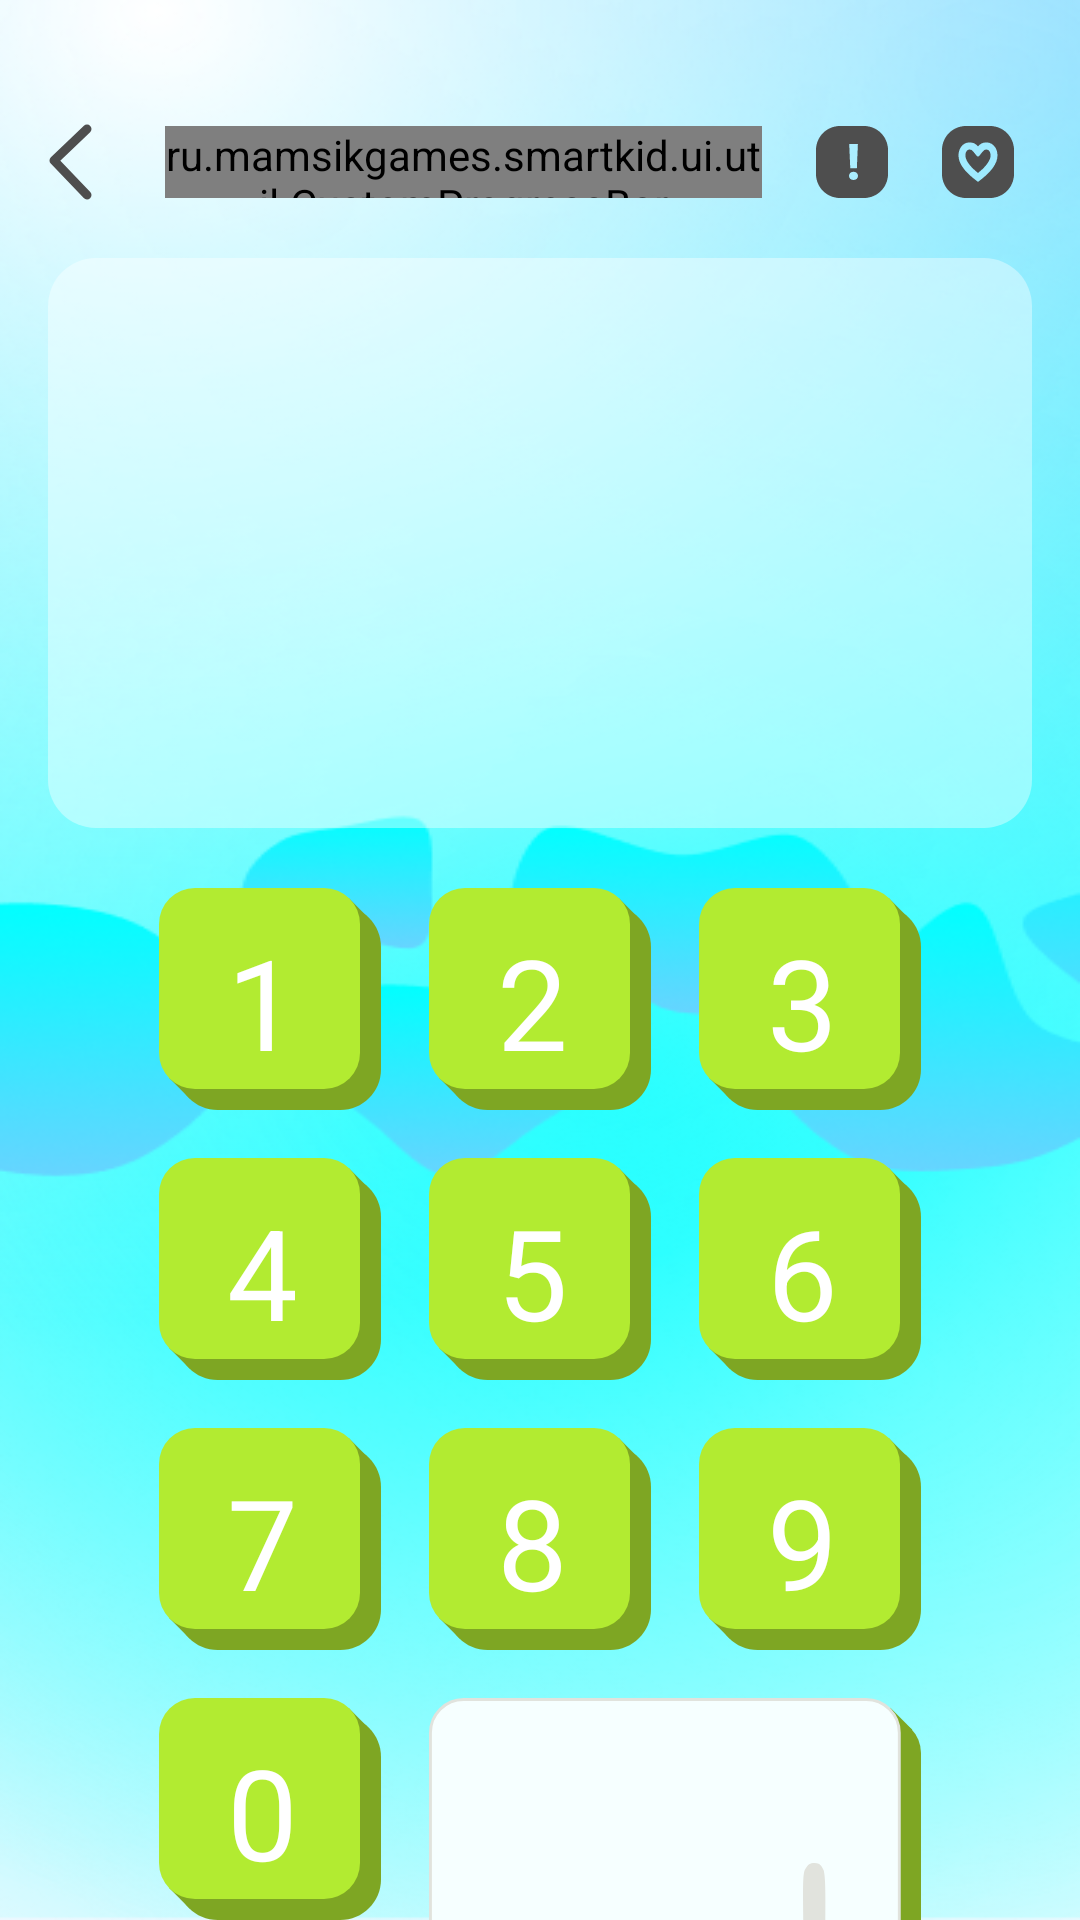

Icon click points for this 1080 × 1920 phone screenshot, format (x,y):
arrow back: (70,162)
